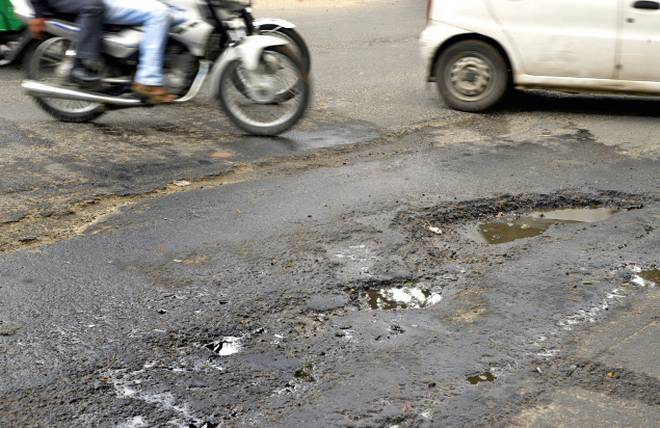pothole: (426, 150, 635, 259), (0, 202, 155, 260), (350, 276, 461, 310), (187, 319, 247, 362)
